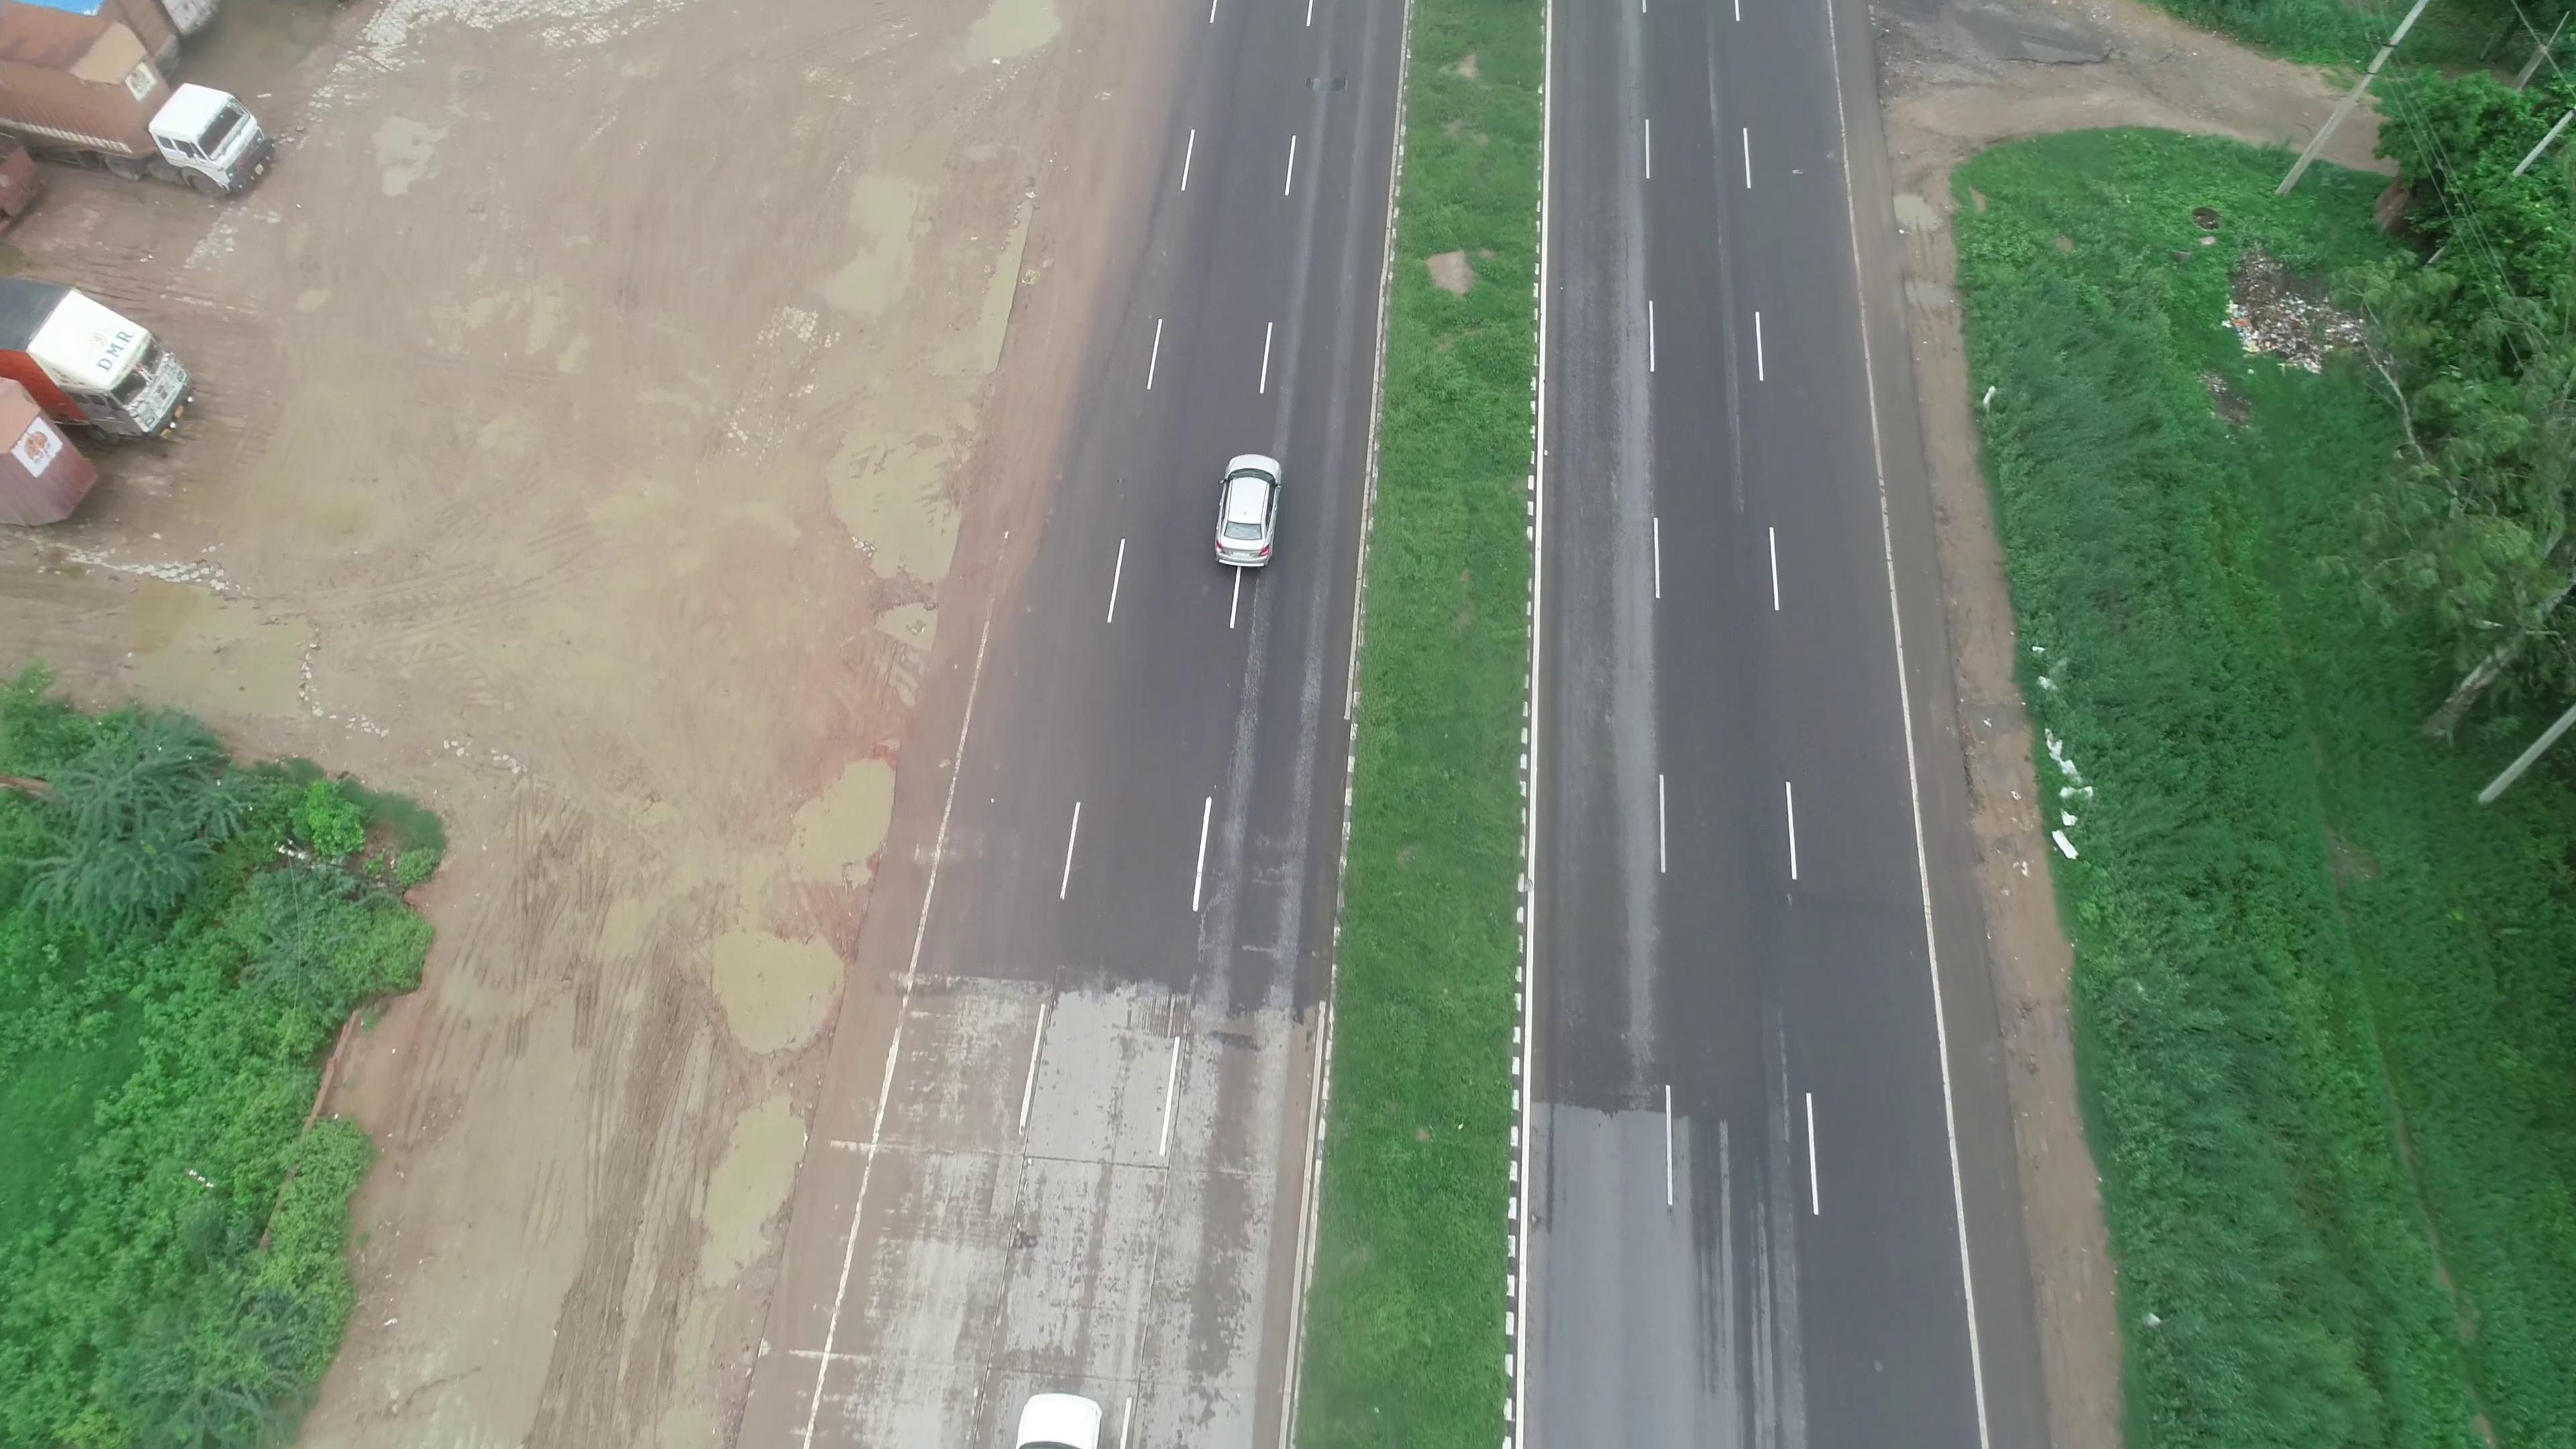Muddy_road: (1042, 64, 1191, 444)
